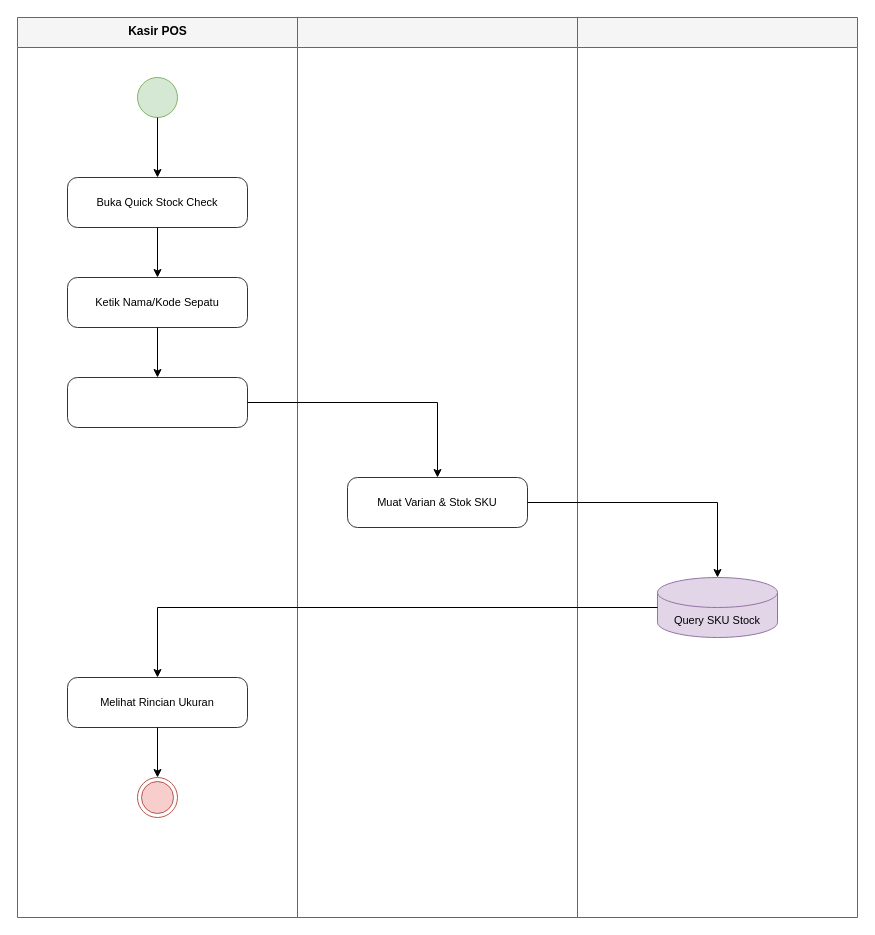
The diagram is 875 pixels wide and 935 high, and some of its shapes have lost their labels. The shapes that lost their labels are listed below. From the top down, each one's box as (x1, y1, x2, y2) in pixels, then its label:
(66, 376, 248, 428): Pilih Sepatu
(296, 16, 578, 918): Sistem POS
(576, 16, 858, 918): Database POS
